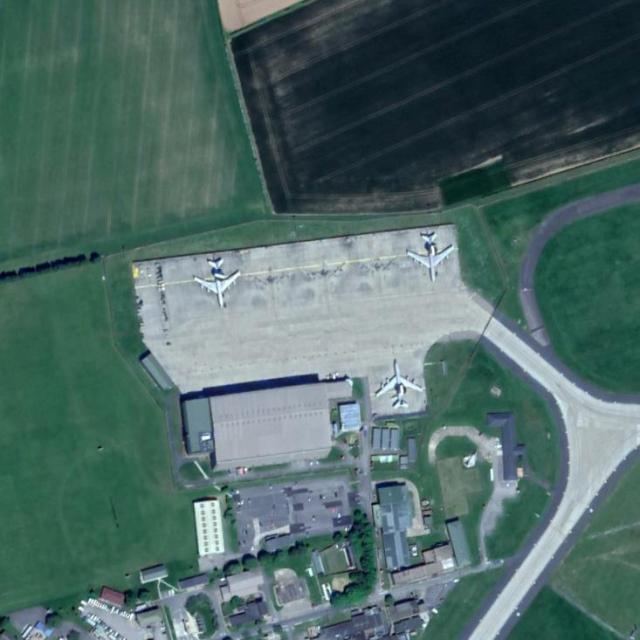fighter jet: (369, 357, 424, 412), (194, 254, 241, 312), (404, 229, 454, 281)
